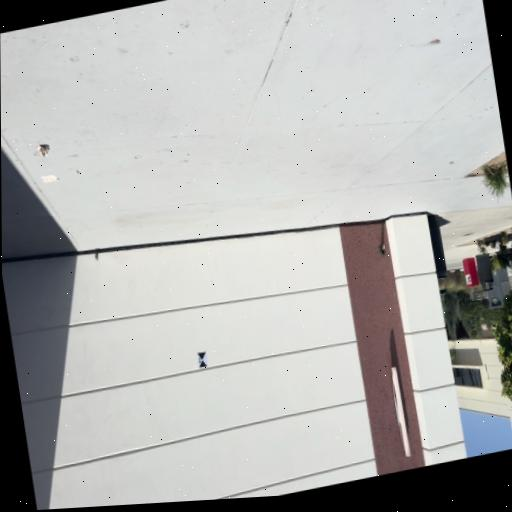target7: (197, 351, 208, 368)
